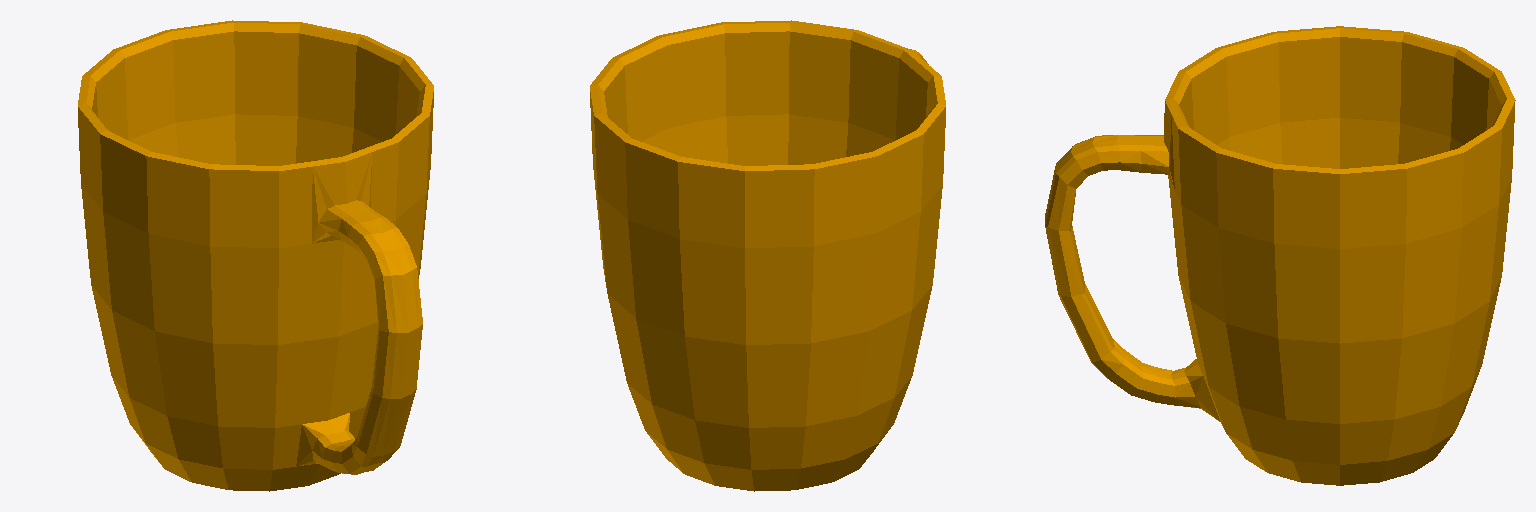
The robot description file, URDF, robot "cup-flower.off":
<?xml version="1.0"?>
<robot name="cup-flower.off">
	<link name="cup-flower.off">
		<inertial>
			<!--origin xyz="0 0 0" rpy="0 0 0" /-->
			<mass value="0.5" />
			<!--inertia ixx="0.000360" ixy="0" ixz="0" iyy="0.0000615" iyz="0" izz="0.00036" /-->
		</inertial>
    		<visual>
	      		<!--origin rpy="0 0 0" xyz="0 0 0"/-->
      			<geometry>
        			<mesh filename="cup-flower.off.obj"/>
      			</geometry>
         	</visual>
    		<collision>
      			<!--origin rpy="0 0 0" xyz="0 0 0"/-->
      			<geometry>
        			<mesh filename="cup-flower.off.obj"/>
      			</geometry>
    		</collision>
	</link>
</robot>

--- Facts derived from the render (not from the file) ---
Views: 3 orthographic renders of the robot side by side, from view 1: azimuth 30°, elevation 25°; view 2: azimuth 150°, elevation 25°; view 3: azimuth 270°, elevation 25°.
Robot: cup-flower.off — 1 links, 0 joints (none); root link cup-flower.off; default pose: every joint at zero.
Visible links, largest first — view 1: cup-flower.off; view 2: cup-flower.off; view 3: cup-flower.off.
Link boxes in pixels (x1,y1,x2,y2): cup-flower.off: (78,20,433,491); cup-flower.off: (590,20,945,491); cup-flower.off: (1045,26,1515,485).
Bounding box of the posed robot: 10.62 × 14.27 × 11.49 m (x, y, z).
1 mesh visuals loaded from 1 distinct referenced files (1 OBJ).
